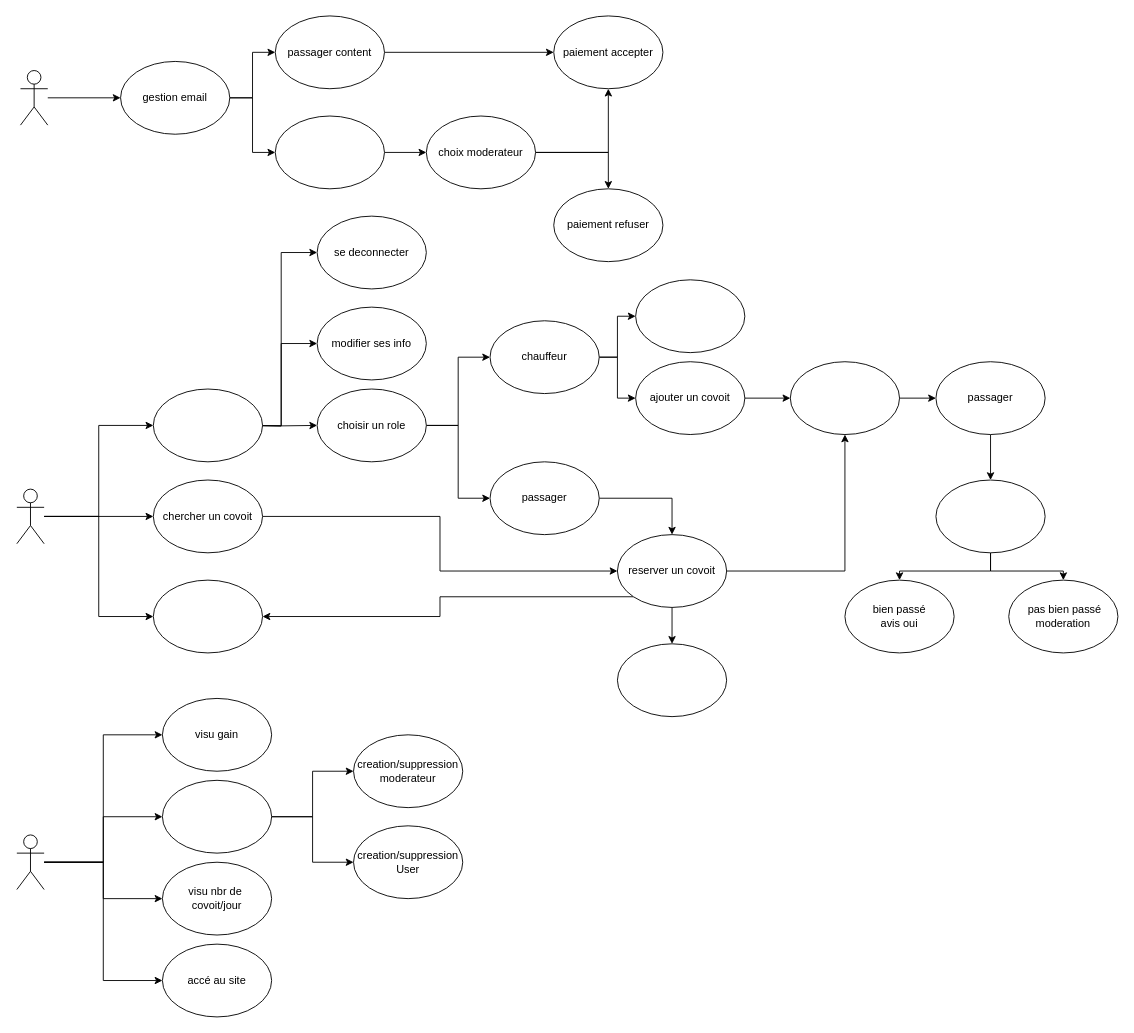
Image size: 1134x1033. Some labels were removed from this diagram. The centre of each missing label's shape, as x and y in pixels:
admin: point (30, 862)
ajouter une voiture: point (690, 316)
covoiturage terminé: point (844, 398)
débit: point (672, 680)
gestion des comptes: point (217, 816)
modo: point (34, 97)
passager != content: point (329, 152)
reception email satisfaction: point (990, 516)
s'inscrire: point (207, 616)
se connecter: point (207, 425)
user: point (30, 516)
